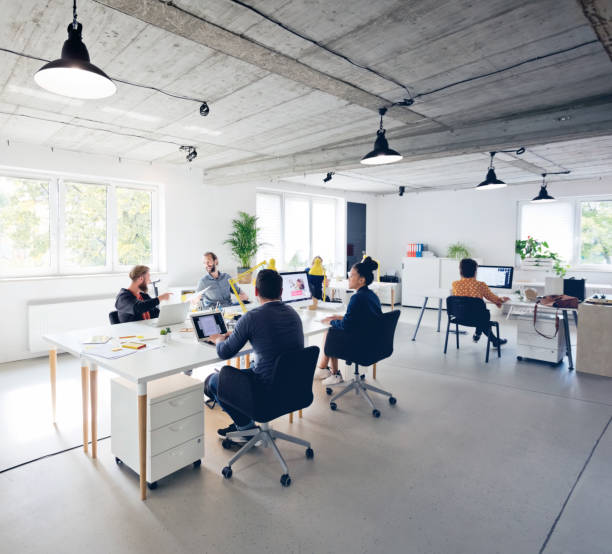without mask: (116, 261, 164, 302), (193, 251, 233, 284), (336, 261, 376, 294)
